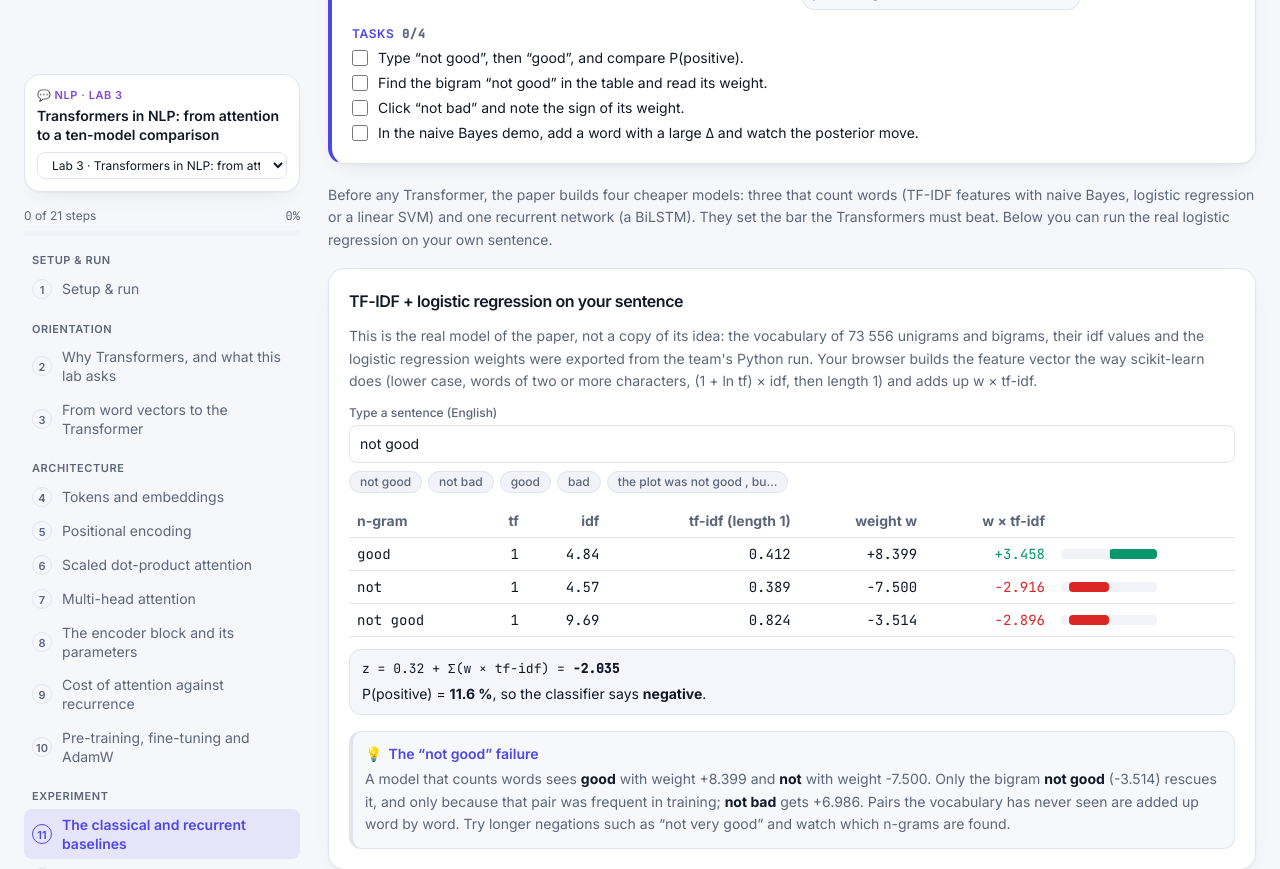
the steps respond to input › baselines: the real TF-IDF model scores your sentence (not good against good)
(page scrolled)
Expected: the message with test id "bl-out" is shown, [349,649,1235,715]
Expected: the table with test id "bl-table" shows "not good", [357,611,424,629]
Replace the text in the field with test id "bl-input" with "good" at (792, 444), box [349,425,1235,463]
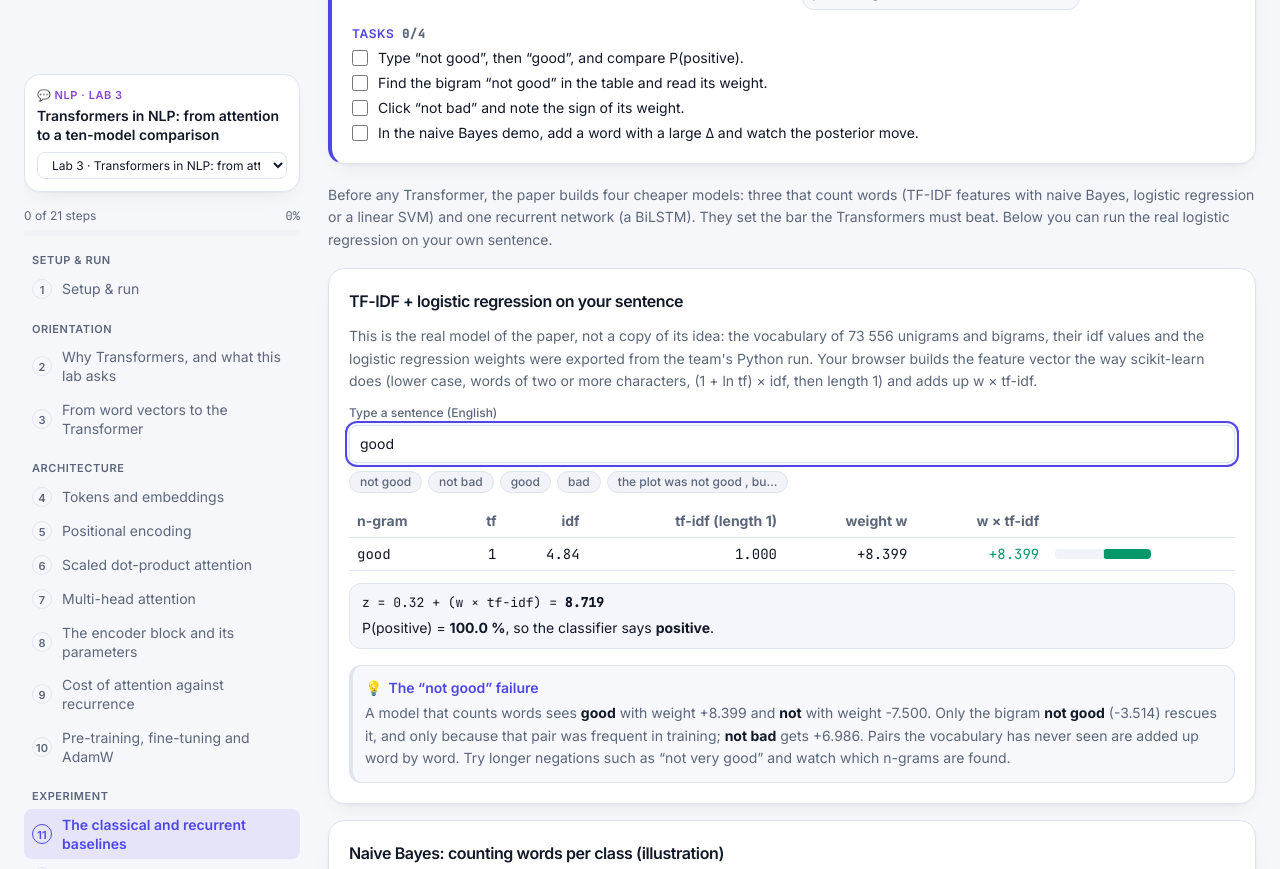
Expected: the message with test id "bl-out" shows "positive", [656,619,710,636]
Replace the text in the field with test id "bl-input" with "qqqq zzzz" at (792, 444), box [349,425,1235,463]
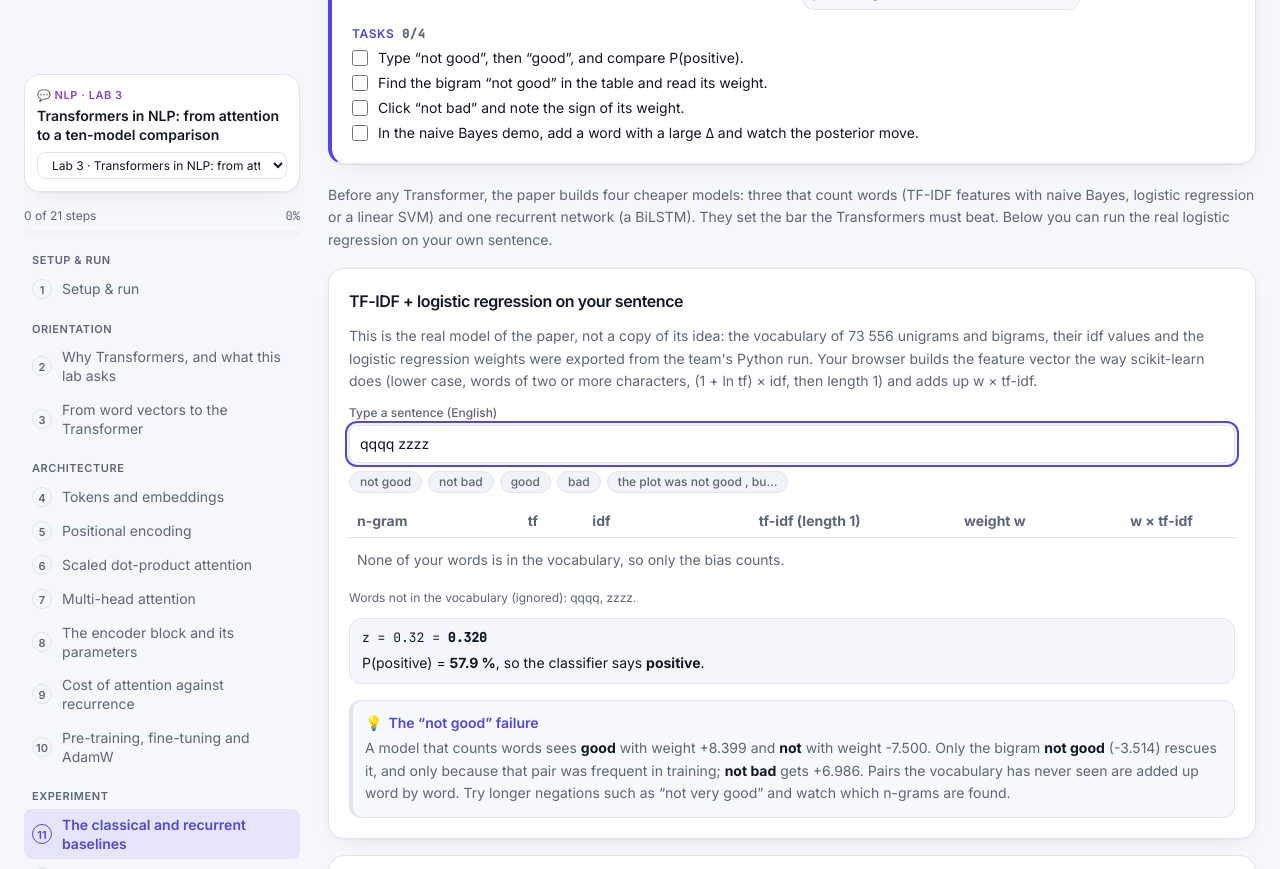
Now the table with test id "bl-table" shows "None of your words", box [357,551,784,568]
